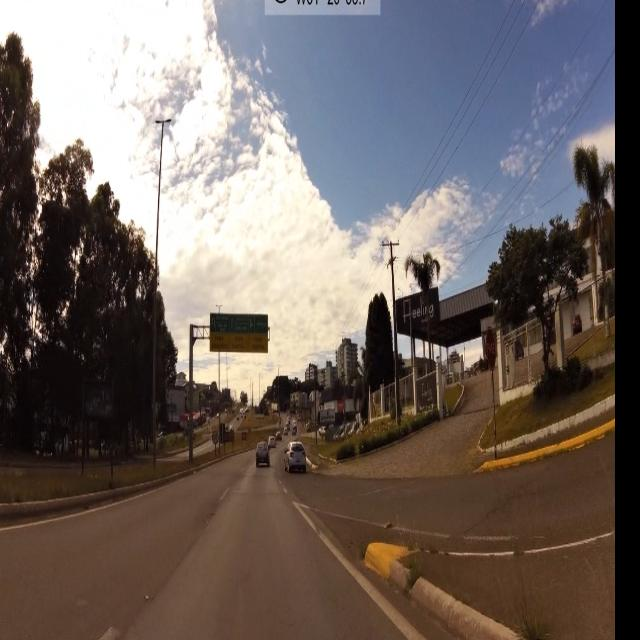R-1: (482, 323, 499, 375)
